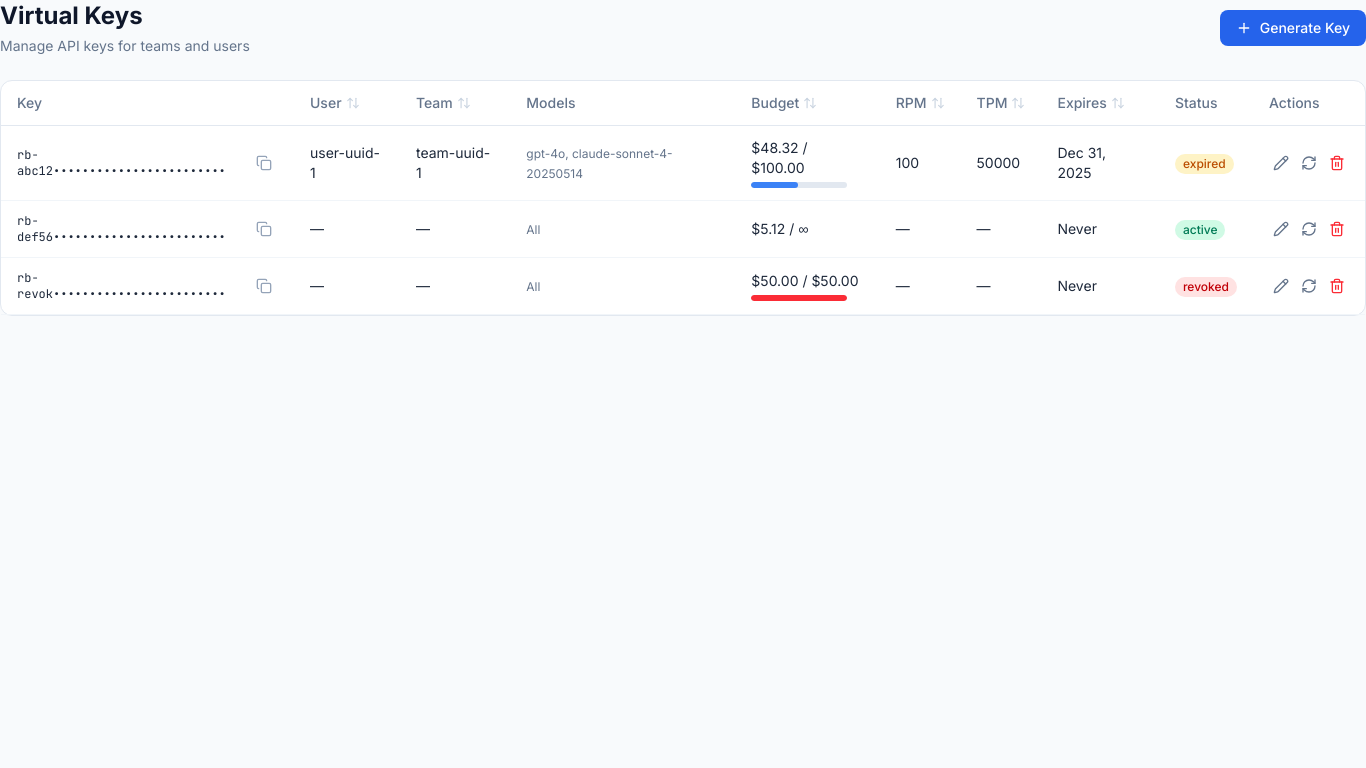
Test: Keys page › opens delete modal when clicking delete button
The width and height of the screenshot is (1366, 768).
Click the button titled "Delete" in the row of "rb-abc12••••••••••••••••••••••••" at (1337, 163), box [1325,151,1349,175]
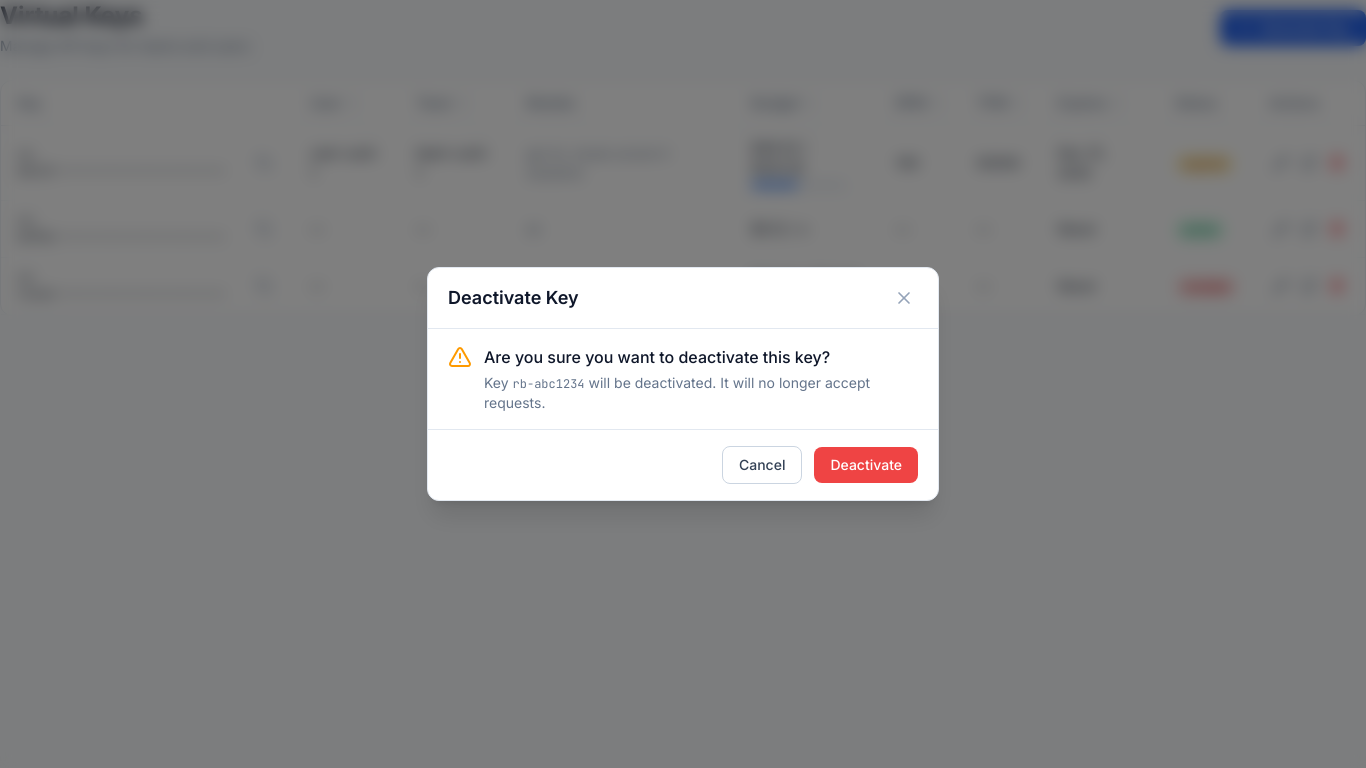
Now the heading "Deactivate Key" is shown, box [448,284,579,312]
Now the text "Are you sure you want to deactivate this key?" is shown, box [484,347,830,367]
Now the text "rb-abc1234" is shown, box [512,376,584,392]
